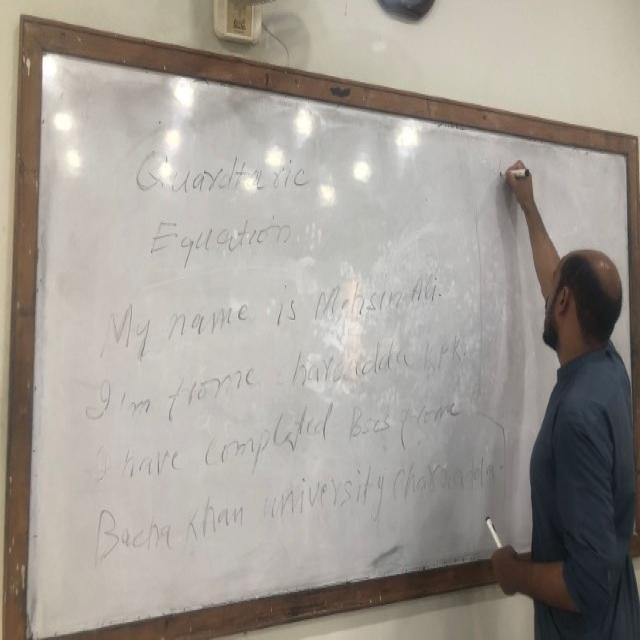Instructor: (511, 216, 638, 633)
White-board: (17, 44, 637, 638)
